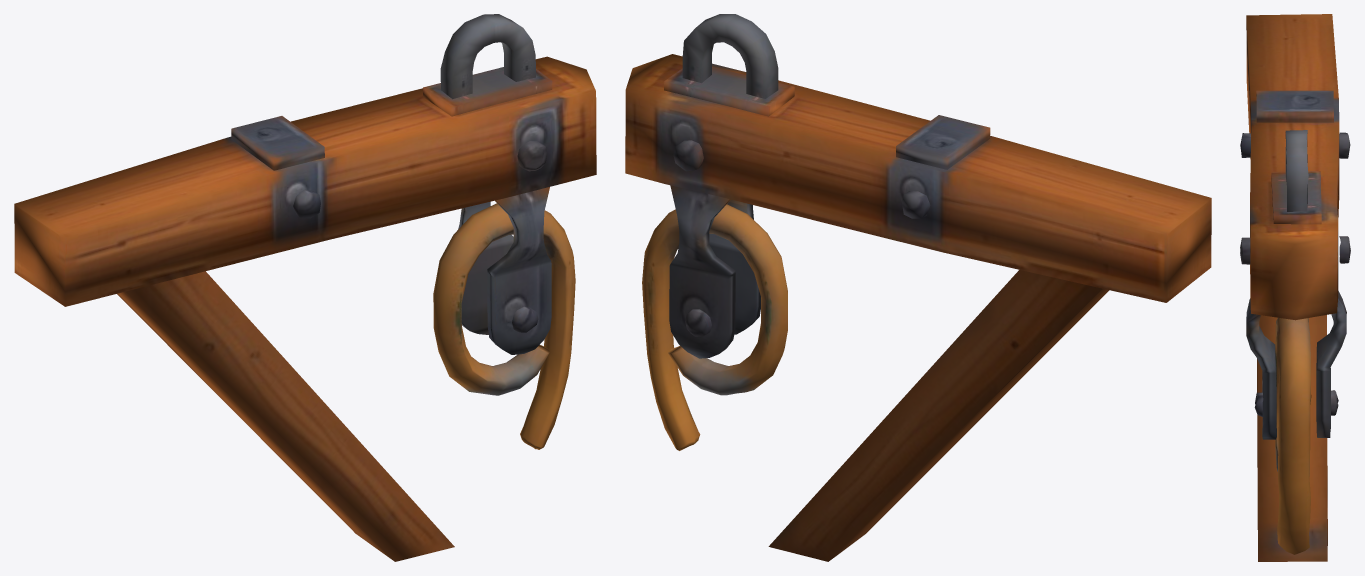
The model's file is cathead.glb.
The picture shows the model from 3 angles, left to right: view 1: azimuth 30°, elevation 25°; view 2: azimuth 150°, elevation 25°; view 3: azimuth 270°, elevation 25°; orthographic projection. The views are drawn at different scales.
Visible parts, largest first — view 1: cathead; view 2: cathead; view 3: cathead.
Boxes of the visible parts, box(x1,y1,x2,y2) form: cathead: box(14, 14, 596, 561); cathead: box(625, 14, 1211, 561); cathead: box(1240, 14, 1350, 561).
Size of the model in its own units: 1.6 by 1.38 by 0.3073.
1 material, 1 textured.
